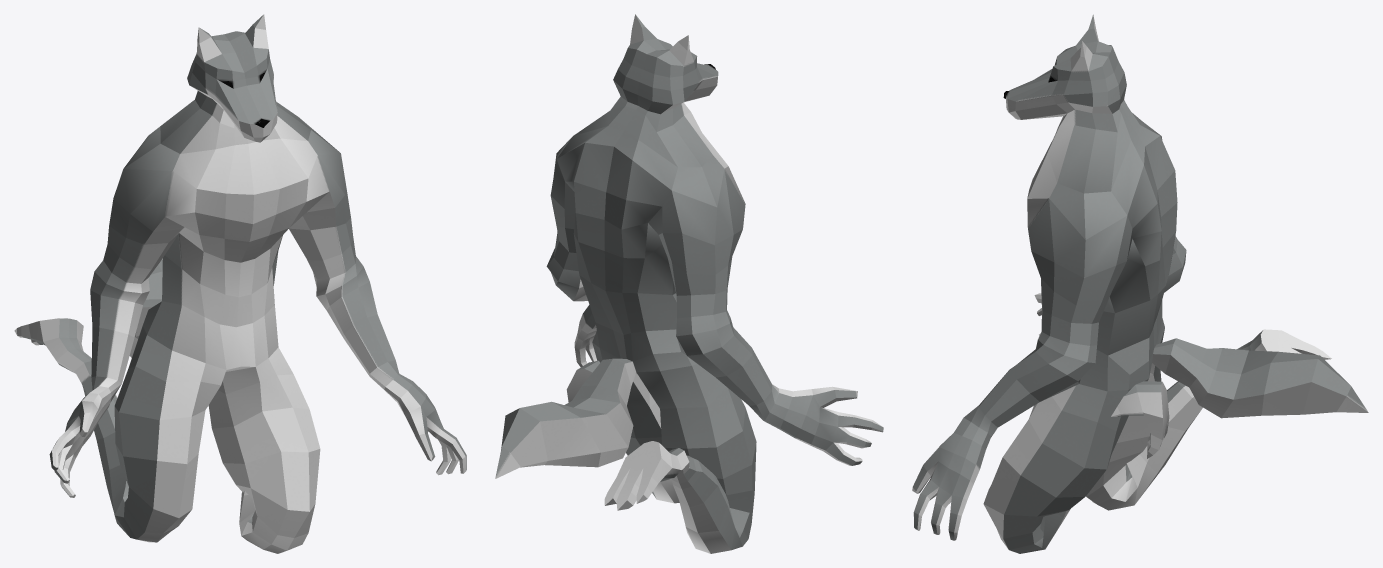
Rendered from WolfDead(37).obj.
3 views of the same model, side by side, from view 1: azimuth 30°, elevation 25°; view 2: azimuth 150°, elevation 25°; view 3: azimuth 270°, elevation 25° (orthographic). The views are drawn at different scales.
Visible parts, largest first — view 1: Box001; view 2: Box001; view 3: Box001.
Boxes of the visible parts, x1=… form: Box001: x1=14, y1=14, x2=466, y2=553; Box001: x1=495, y1=14, x2=883, y2=553; Box001: x1=912, y1=14, x2=1368, y2=553.
Bounding box in the file's own units: 86.96 × 120 × 95.79.
